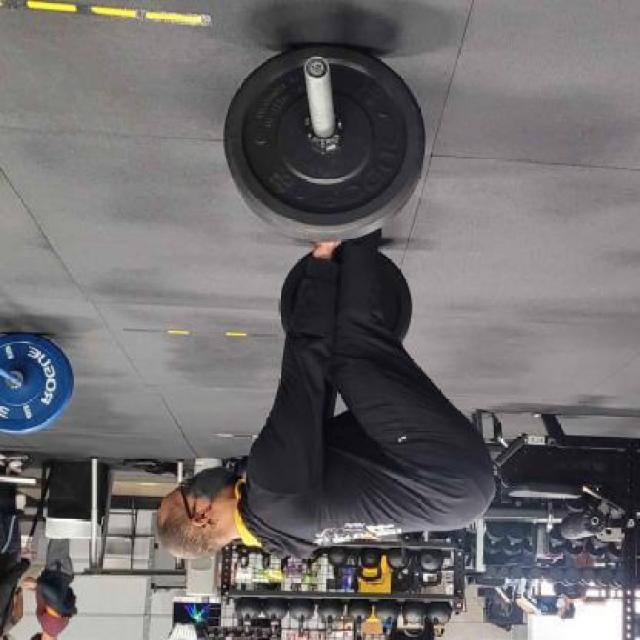Barbell: (298, 52, 336, 91)
